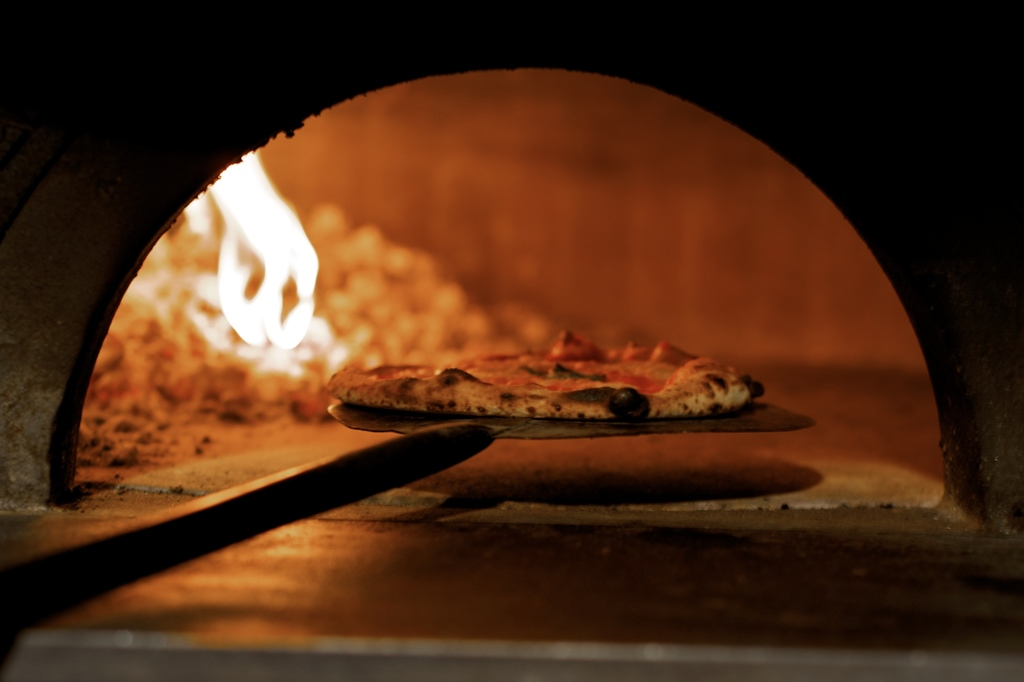Pizza: (324, 325, 758, 417)
